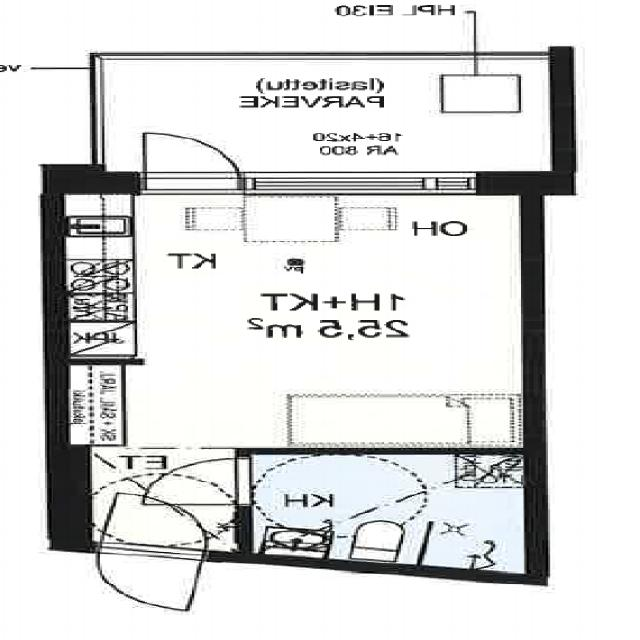door: (82, 542, 208, 612), (99, 492, 224, 561), (145, 126, 240, 195), (142, 459, 252, 505)
